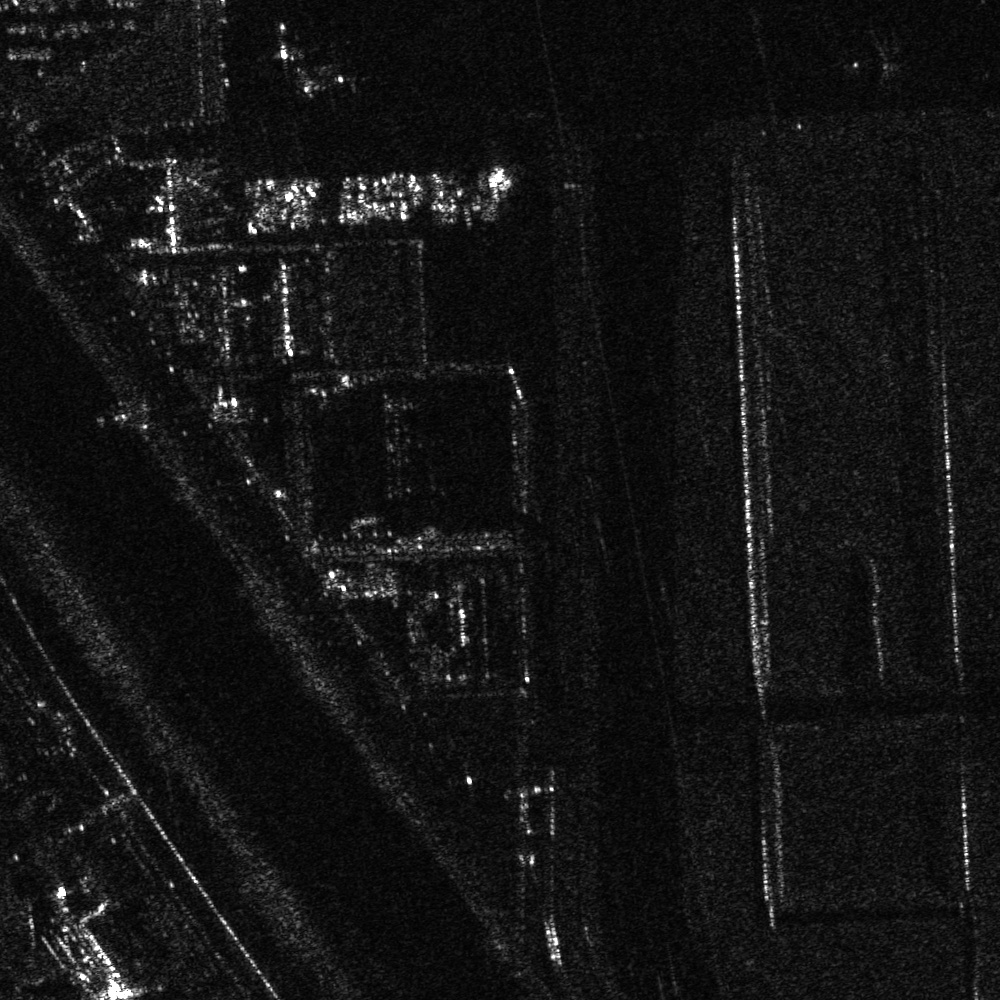A220: (261, 19, 307, 73)
other: (283, 69, 349, 103)
